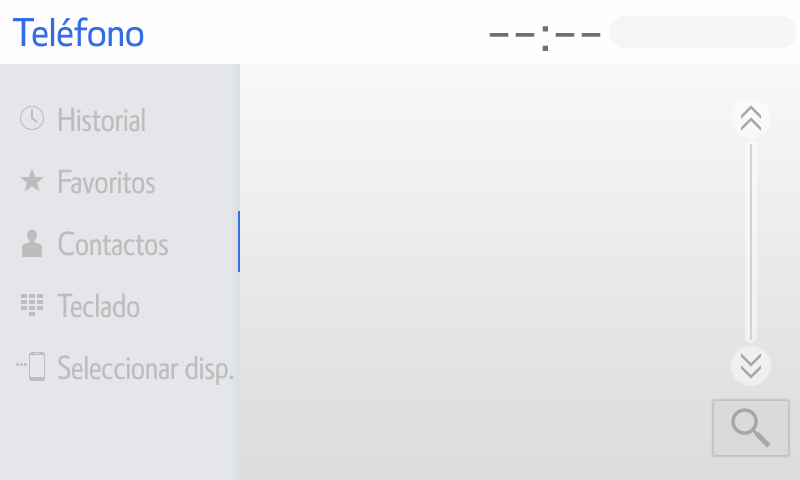untouchPart: (475, 6, 800, 53), (3, 346, 234, 398), (12, 275, 171, 336), (12, 7, 167, 62), (12, 221, 186, 263), (710, 395, 793, 468), (16, 98, 149, 134), (16, 167, 164, 199), (727, 346, 786, 386), (726, 97, 777, 140)
